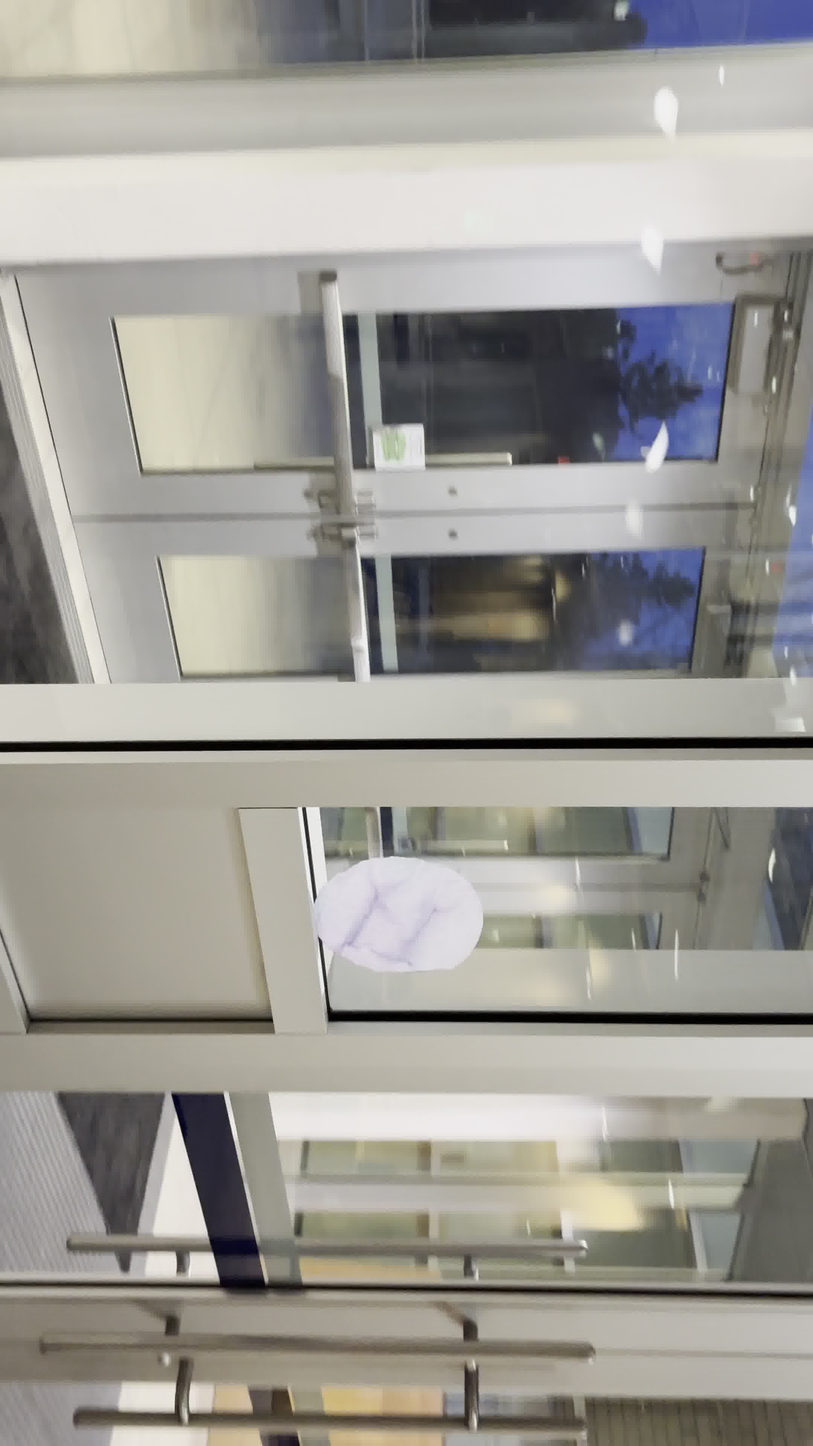Target: (295, 842, 491, 988)
